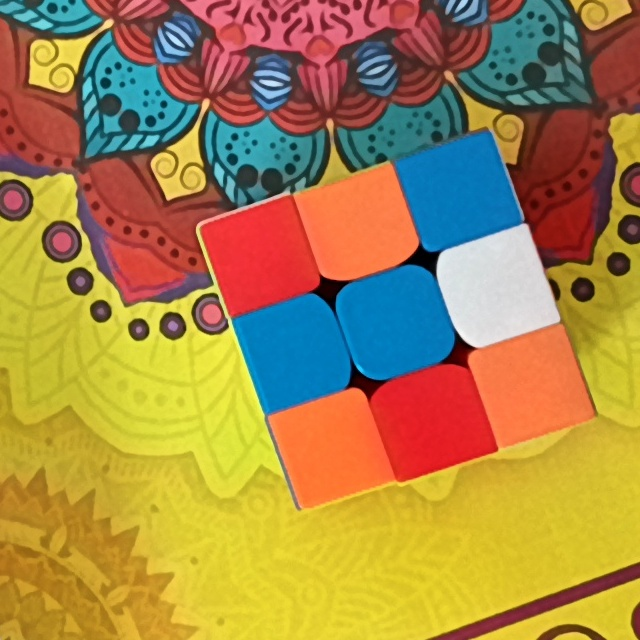tile: (292, 410, 367, 488), (354, 286, 433, 360), (218, 220, 295, 295), (496, 346, 569, 425), (422, 155, 497, 231), (461, 247, 535, 324), (317, 190, 396, 262), (258, 313, 330, 392), (400, 381, 472, 459)
